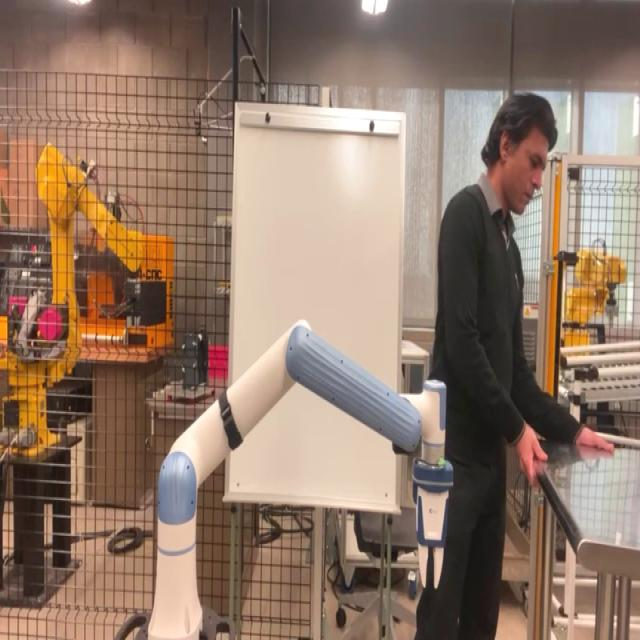robot: (114, 318, 451, 638)
